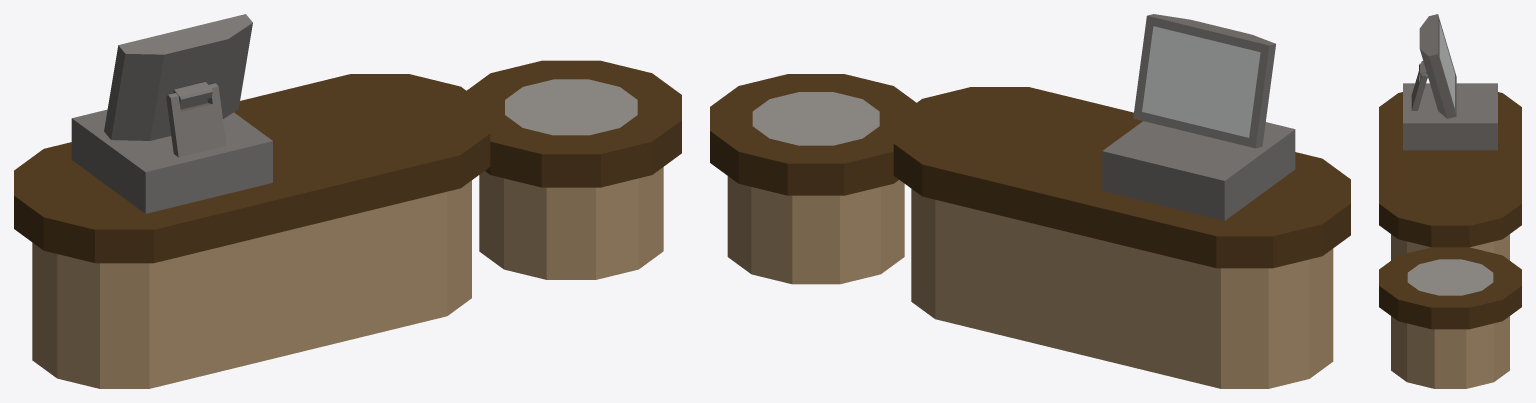
File: Counter07.fbx
The picture shows the model from 3 angles, left to right: view 1: azimuth 30°, elevation 25°; view 2: azimuth 150°, elevation 25°; view 3: azimuth 270°, elevation 25°; orthographic projection. The views are drawn at different scales.
Parts seen in each view (by area): view 1: Table_Large, Table_Small, CashRegister; view 2: Table_Large, Table_Small, CashRegister; view 3: Table_Small, Table_Large, CashRegister.
Part boxes in pixels (box(x1,y1,x2,y2)): Table_Large: box(14, 74, 490, 388); Table_Small: box(467, 60, 681, 279); CashRegister: box(71, 14, 272, 213); Table_Large: box(893, 87, 1350, 388); Table_Small: box(710, 74, 916, 284); CashRegister: box(1102, 14, 1295, 220); Table_Small: box(1379, 247, 1521, 388); Table_Large: box(1379, 92, 1521, 260); CashRegister: box(1403, 14, 1497, 150).
Bounding box in the file's own units: 4 × 1.89 × 1.2.
1 material, 1 textured.
